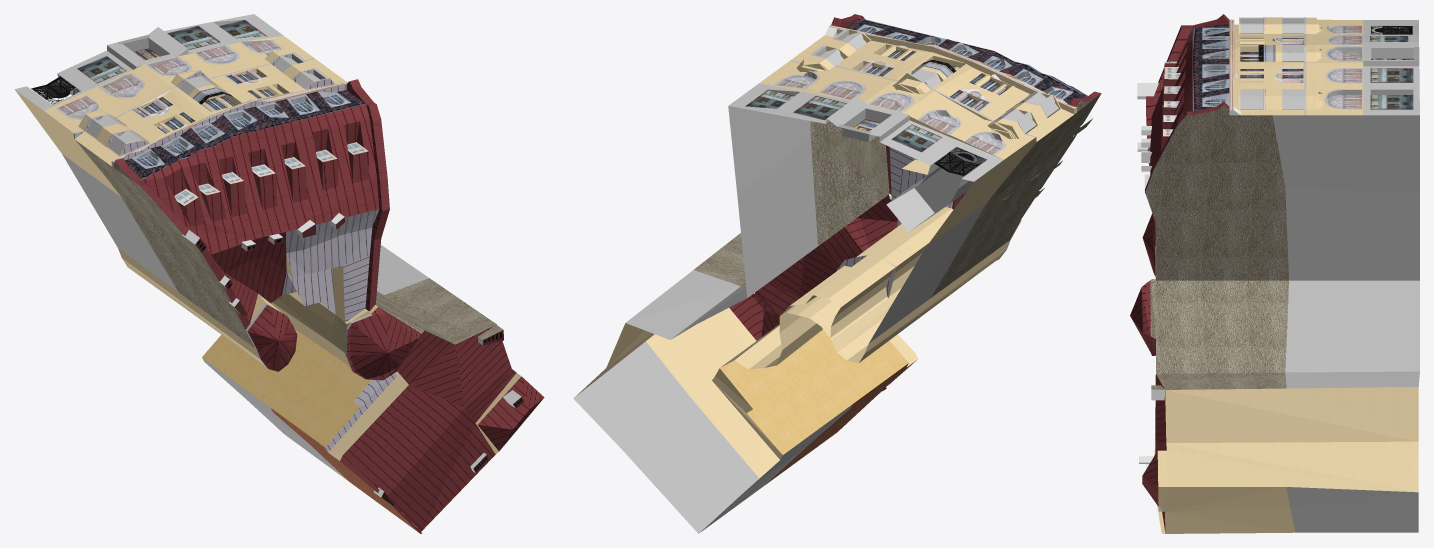
The model's file is Viru_4-origo.obj.
3 views of the same model, side by side, from view 1: azimuth 30°, elevation 25°; view 2: azimuth 150°, elevation 25°; view 3: azimuth 270°, elevation 25° (orthographic). The views are drawn at different scales.
Visible parts, largest first — view 1: Viru_4; view 2: Viru_4; view 3: Viru_4.
Part boxes in pixels (box(x1,y1,x2,y2)): Viru_4: box(15, 14, 544, 533); Viru_4: box(573, 14, 1101, 533); Viru_4: box(1130, 14, 1419, 533).
Bounding box in the file's own units: 38.19 × 41 × 25.72.
